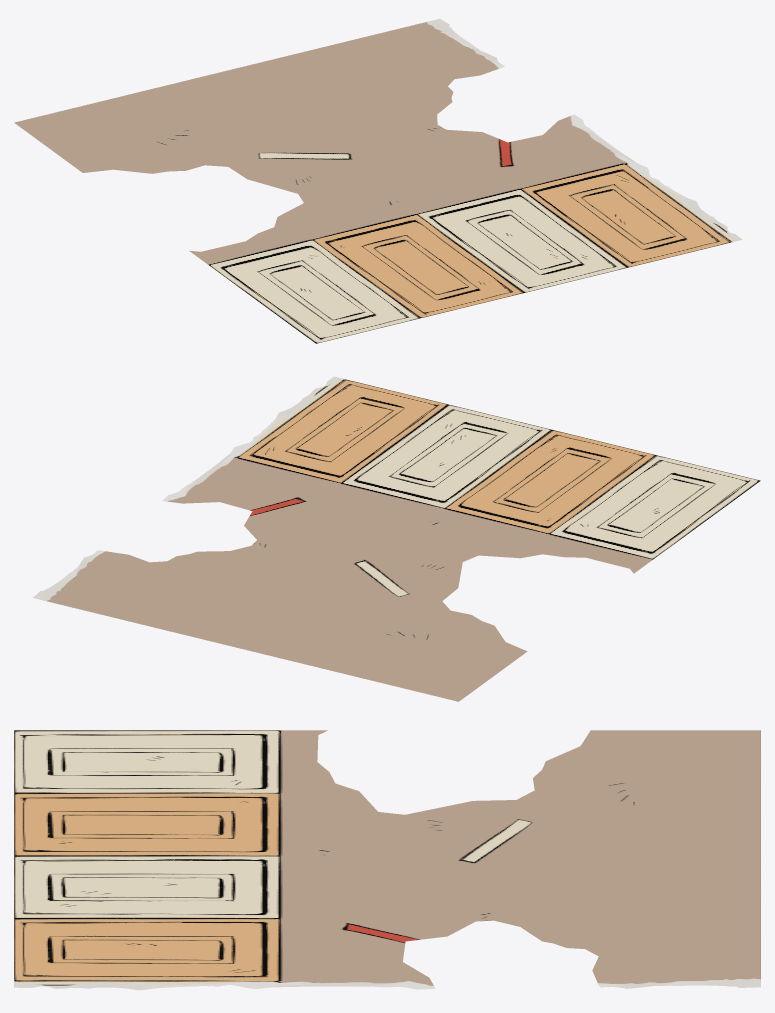
The model's file is 1Stage_Boss_WallBack_R.fbx.
3 views of the same model, one above another, from view 1: azimuth 30°, elevation 25°; view 2: azimuth 150°, elevation 25°; view 3: azimuth 270°, elevation 25° (orthographic). The views are drawn at different scales.
Parts seen in each view (by area): view 1: WallR; view 2: WallR; view 3: WallR.
Boxes of the visible parts, left/top/right/bottom form: WallR: left=14, top=18, right=742, bottom=343; WallR: left=33, top=376, right=760, bottom=701; WallR: left=14, top=730, right=760, bottom=990.
Bounding box in the file's own units: 2125 × 0 × 2500.
Materials: 1 (1 with a texture image).
